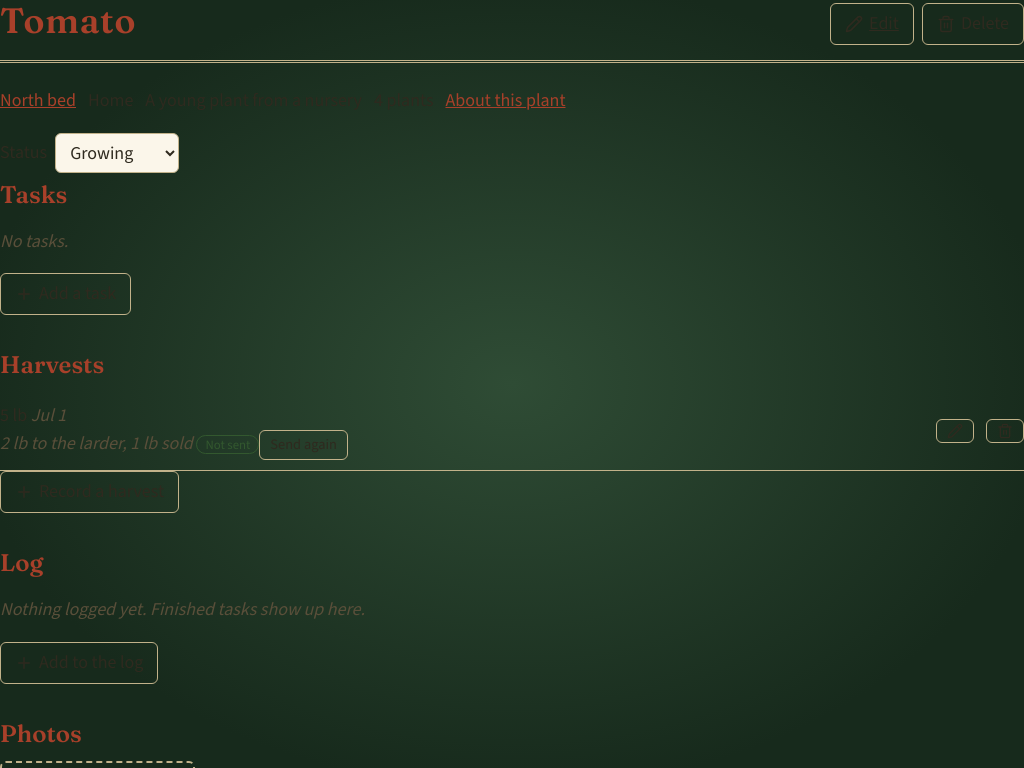
Test: harvest dialog › the dialog works out kept fresh live and refuses parts that add up to too much
Click the button "Record a harvest" at (90, 492), box [0,471,179,513]
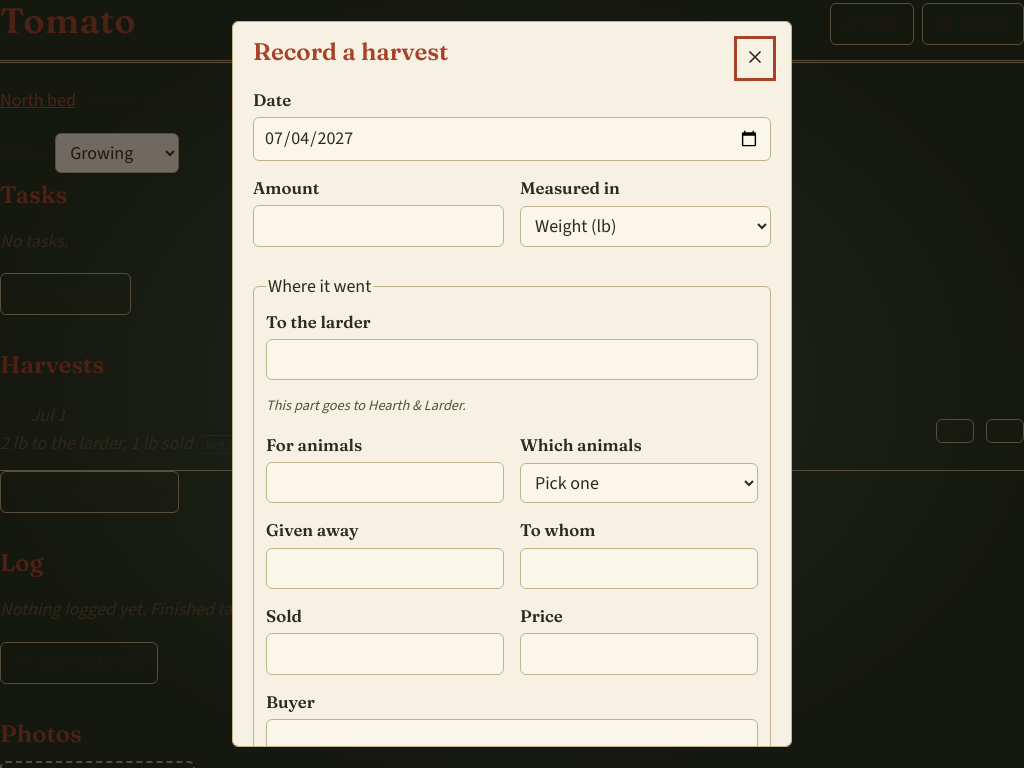
Expected: the date field labelled "Date" holds "2027-07-04", [253,117,771,161]
Type "5" into the field labelled "Amount" at (378, 226), box [253,205,504,247]
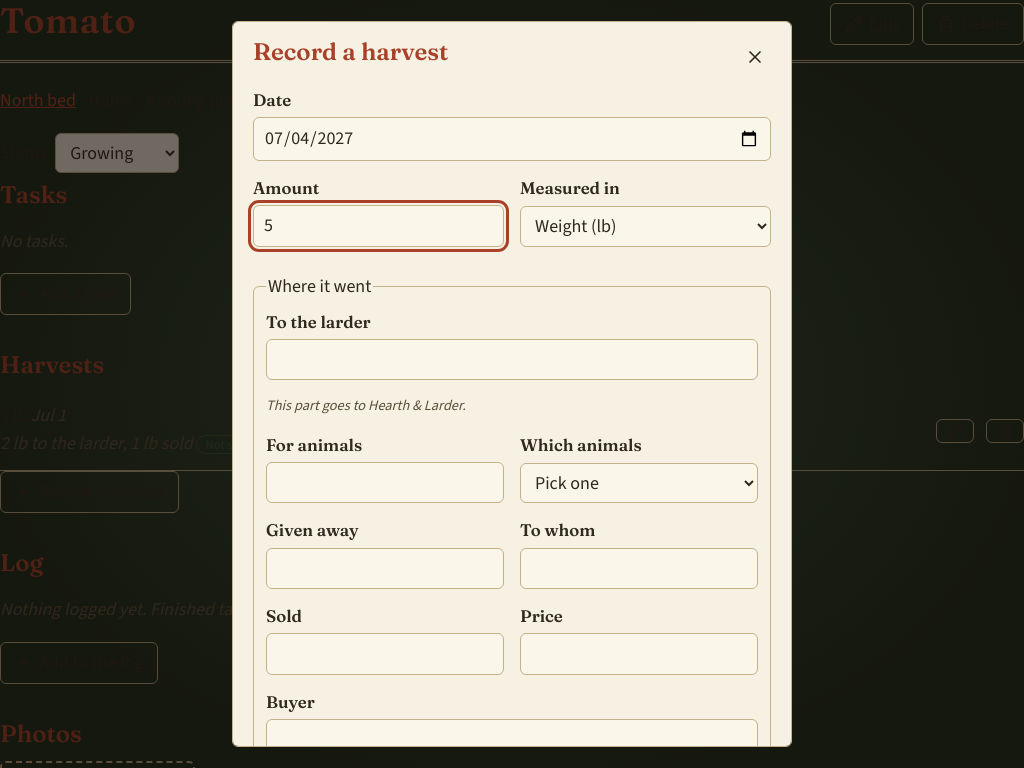
Type "2" into the field labelled "To the larder" at (512, 360), box [266,339,758,380]
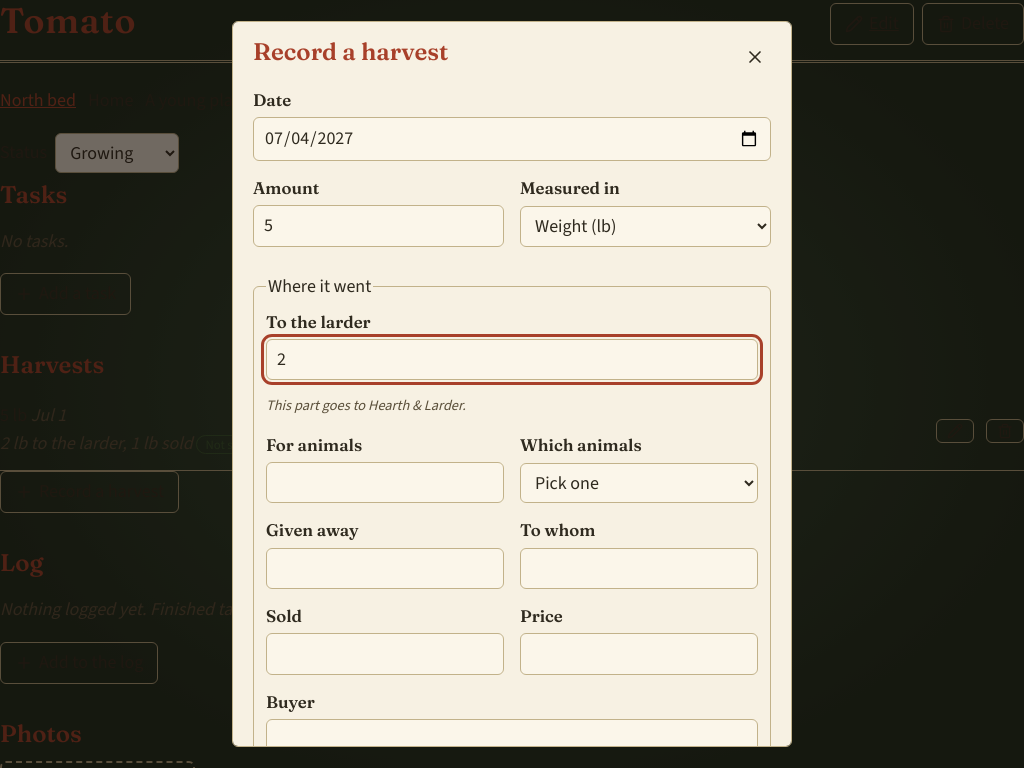
Type "1" into the field labelled "Sold" at (385, 654), box [266,633,504,675]
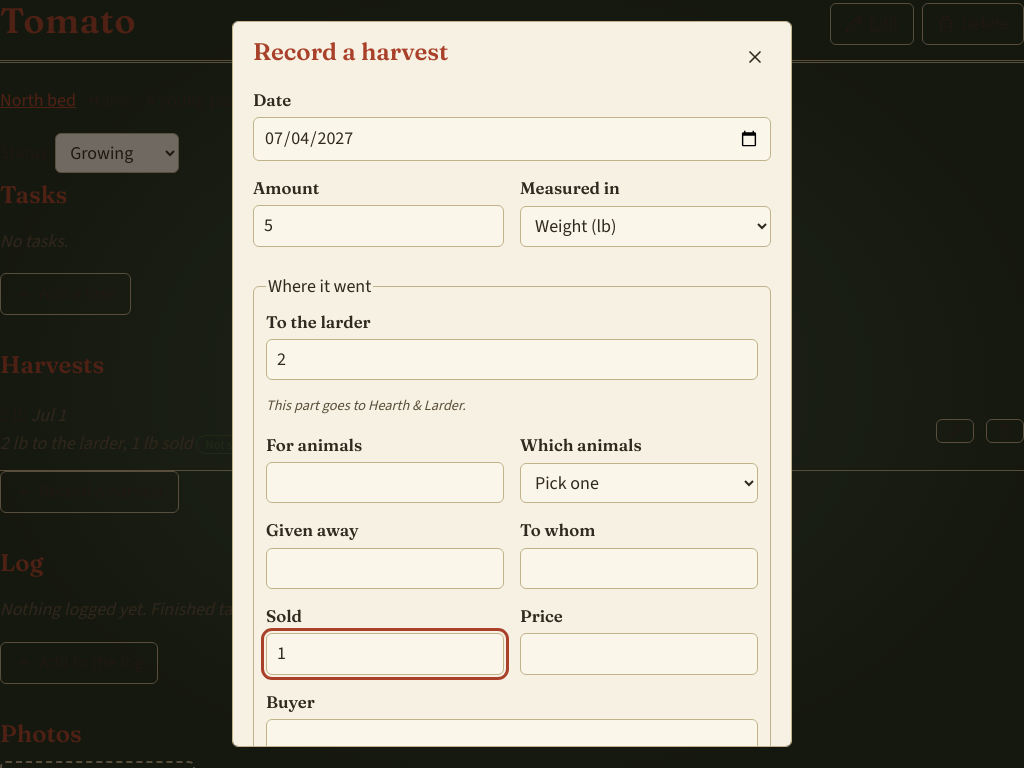
Expected: the text "This part goes to Hearth & Larder." is shown, [266,396,466,415]
Type "3" into the field labelled "Given away" at (385, 568), box [266,548,504,589]
(page scrolled)
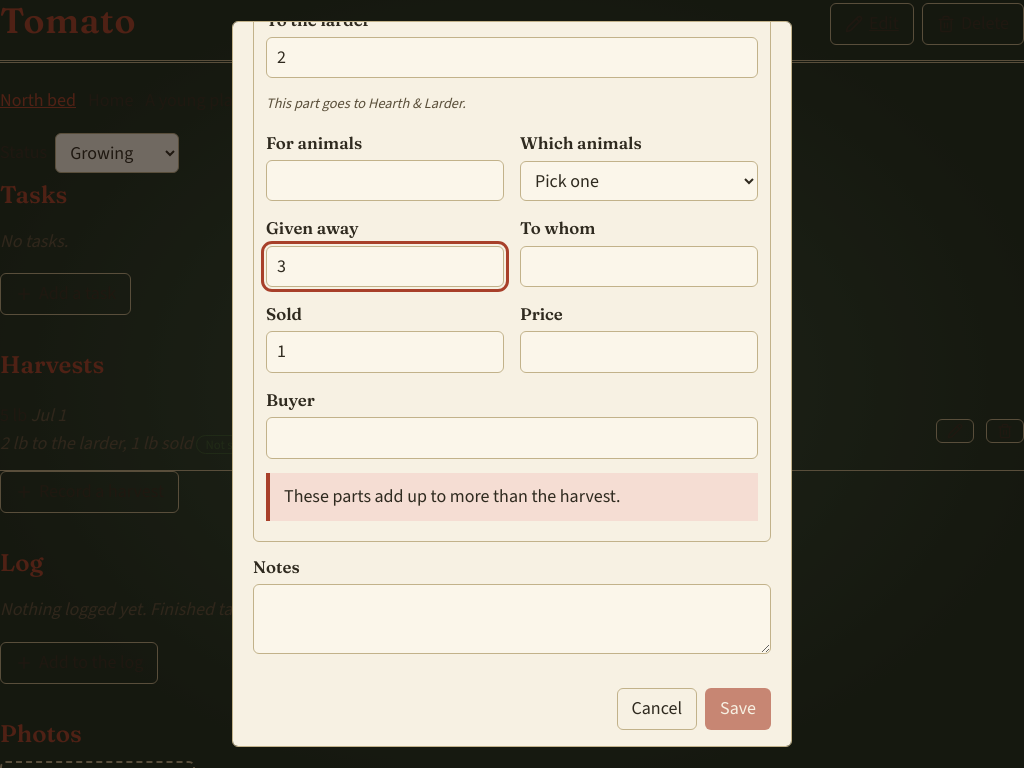
Expected: the text "These parts add up to more than the harvest." is shown, [266,473,758,521]
Expected: the button "Save" is disabled, [705,688,771,730]
